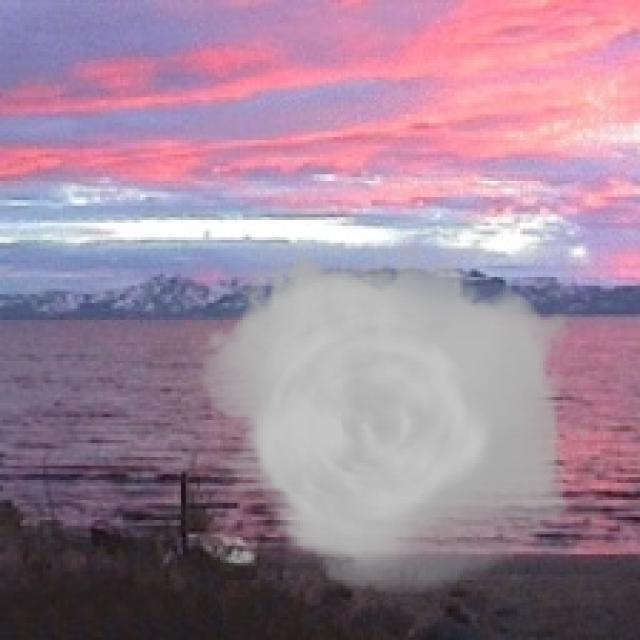Smoke: (186, 246, 588, 594)
